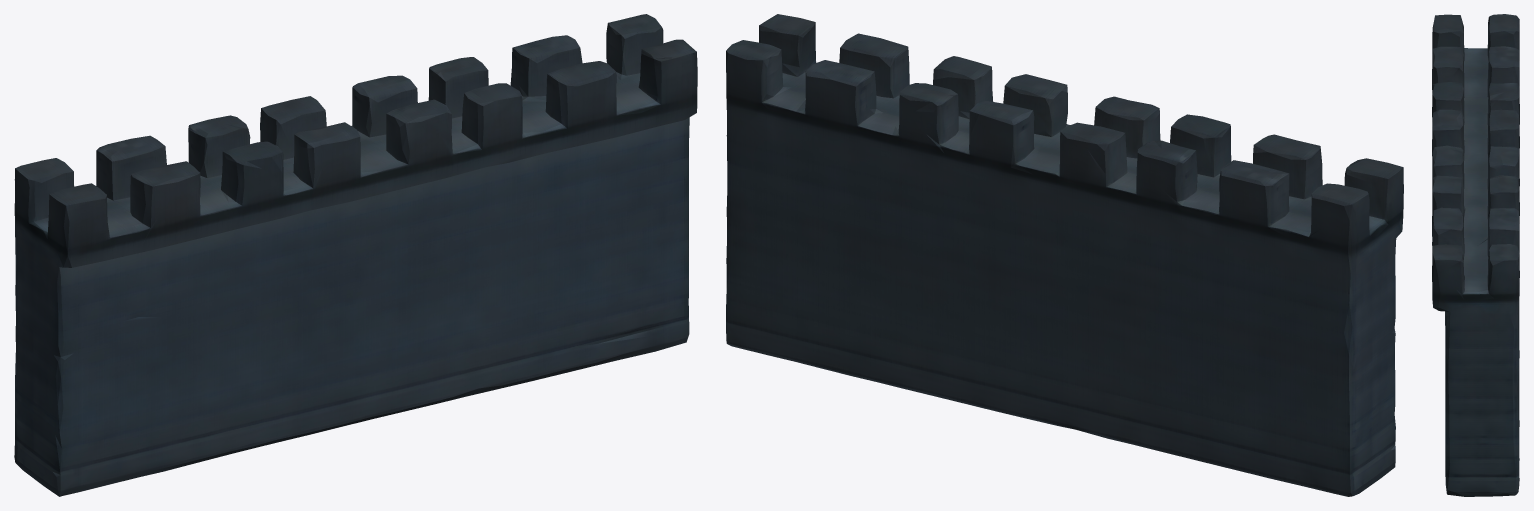
The model's file is wall_segment.glb.
3 renders of one model, left to right at view 1: azimuth 30°, elevation 25°; view 2: azimuth 150°, elevation 25°; view 3: azimuth 270°, elevation 25°, orthographic. The views are drawn at different scales.
Visible parts, largest first — view 1: Mesh; view 2: Mesh; view 3: Mesh.
Boxes of the visible parts, box(x1,y1,x2,y2) form: Mesh: box(14, 14, 697, 496); Mesh: box(726, 14, 1403, 496); Mesh: box(1432, 14, 1519, 496).
Bounding box in the file's own units: 1.91 × 0.8594 × 0.287.
1 material, 1 textured.
